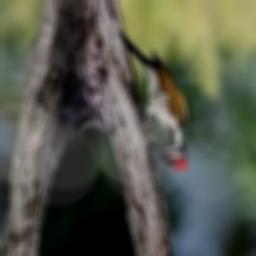Woodpecker: (119, 33, 187, 169)
